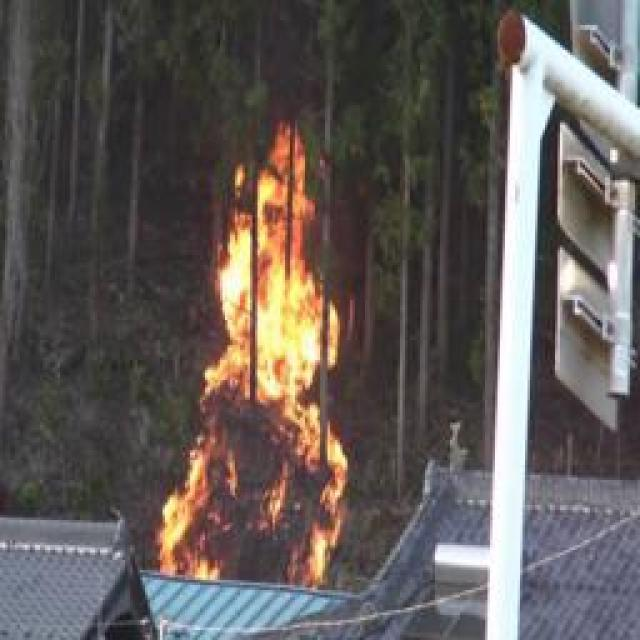Fire: (170, 136, 342, 586)
